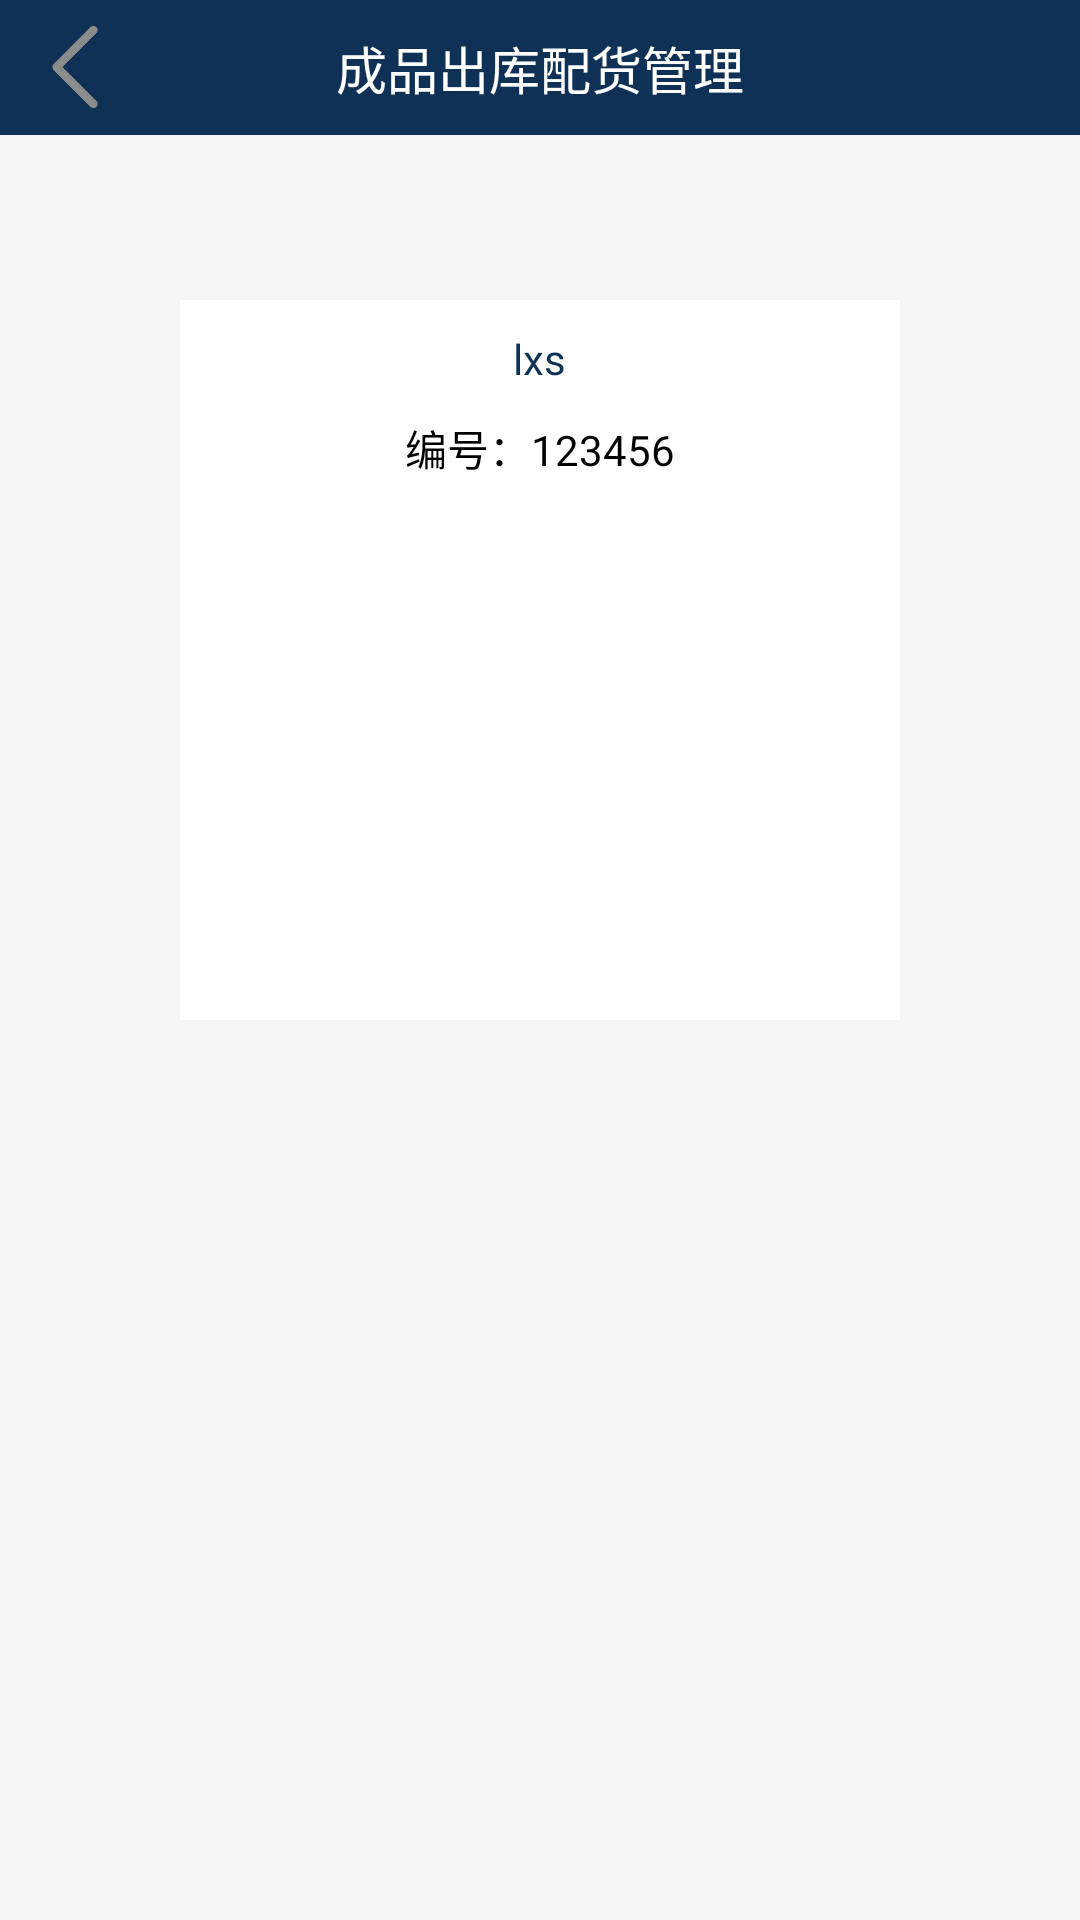

Icons on this 1080px x 1920px Android screen, each with its box as (x1, y1, x2, y2):
exit: (52, 26, 98, 108)
